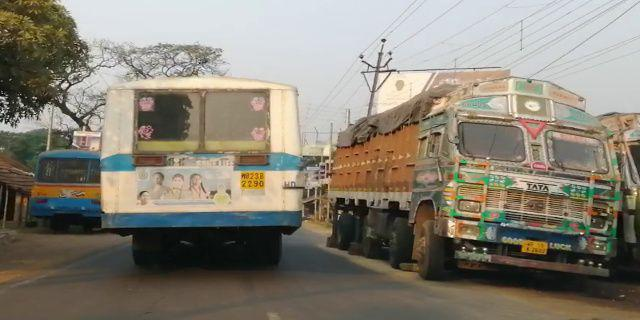Bus: (98, 74, 304, 269), (31, 147, 101, 235)
Truck: (325, 80, 619, 291)
